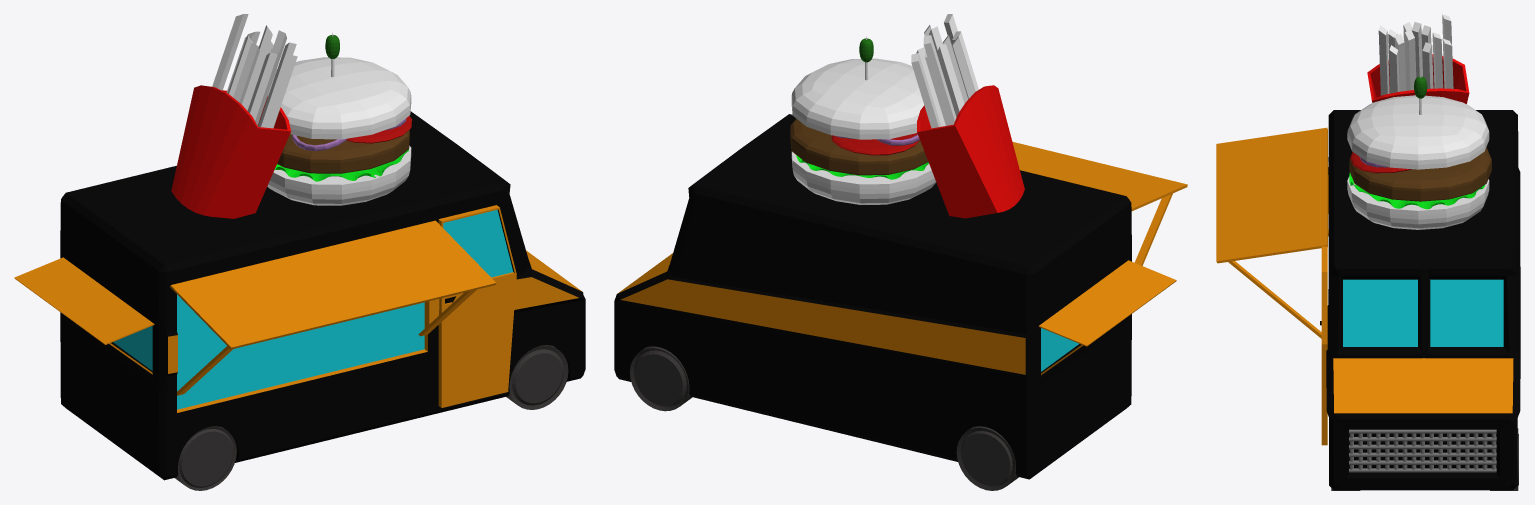
Rendered from FoodTruck_Nvl3.fbx.
3 views of the same model, side by side, from view 1: azimuth 30°, elevation 25°; view 2: azimuth 150°, elevation 25°; view 3: azimuth 270°, elevation 25° (orthographic). The views are drawn at different scales.
Parts seen in each view (by area): view 1: FoodTruck_nivel3; view 2: FoodTruck_nivel3; view 3: FoodTruck_nivel3.
Part boxes in pixels (x1=…): FoodTruck_nivel3: x1=14, y1=14, x2=585, y2=490; FoodTruck_nivel3: x1=614, y1=14, x2=1187, y2=490; FoodTruck_nivel3: x1=1216, y1=14, x2=1520, y2=490.
Bounding box in the file's own units: 3166 × 2584 × 1923.
